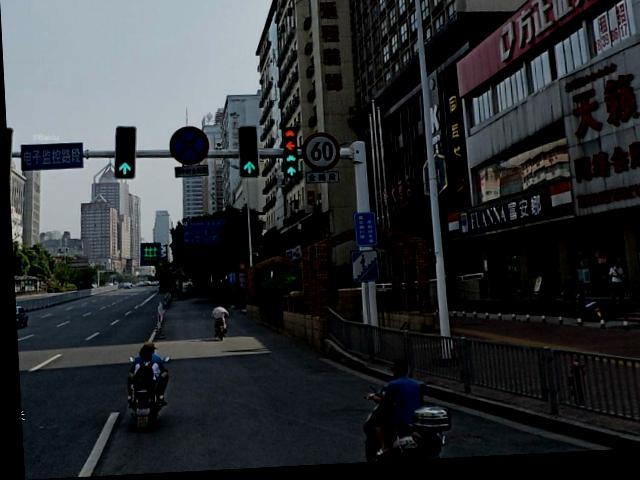limit60: (299, 131, 339, 176)
